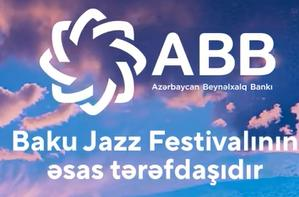ABB: (38, 7, 148, 117)
